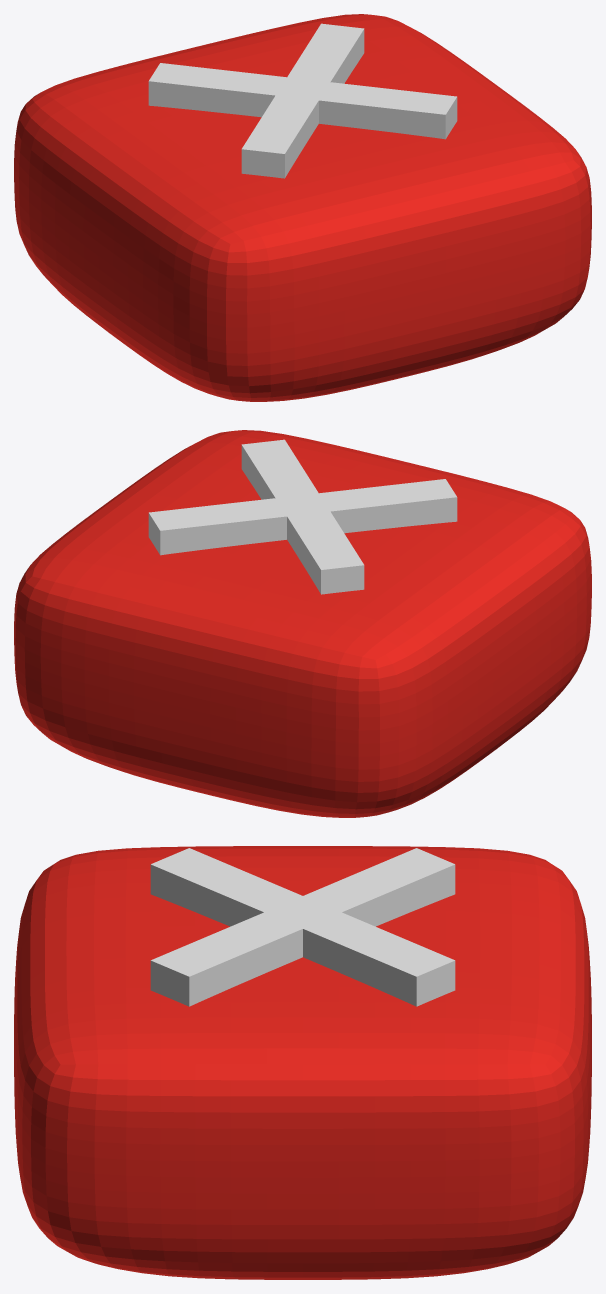
File: cancel.fbx
3 views of the same model, one above another, from view 1: azimuth 30°, elevation 25°; view 2: azimuth 150°, elevation 25°; view 3: azimuth 270°, elevation 25° (orthographic). The views are drawn at different scales.
Visible parts, largest first — view 1: herbe.004; view 2: herbe.004; view 3: herbe.004.
Boxes of the visible parts, bbox=[...] form: herbe.004: bbox=[14, 14, 591, 401]; herbe.004: bbox=[14, 430, 591, 817]; herbe.004: bbox=[14, 846, 591, 1279].
Bounding box in the file's own units: 105 × 58.24 × 105.
